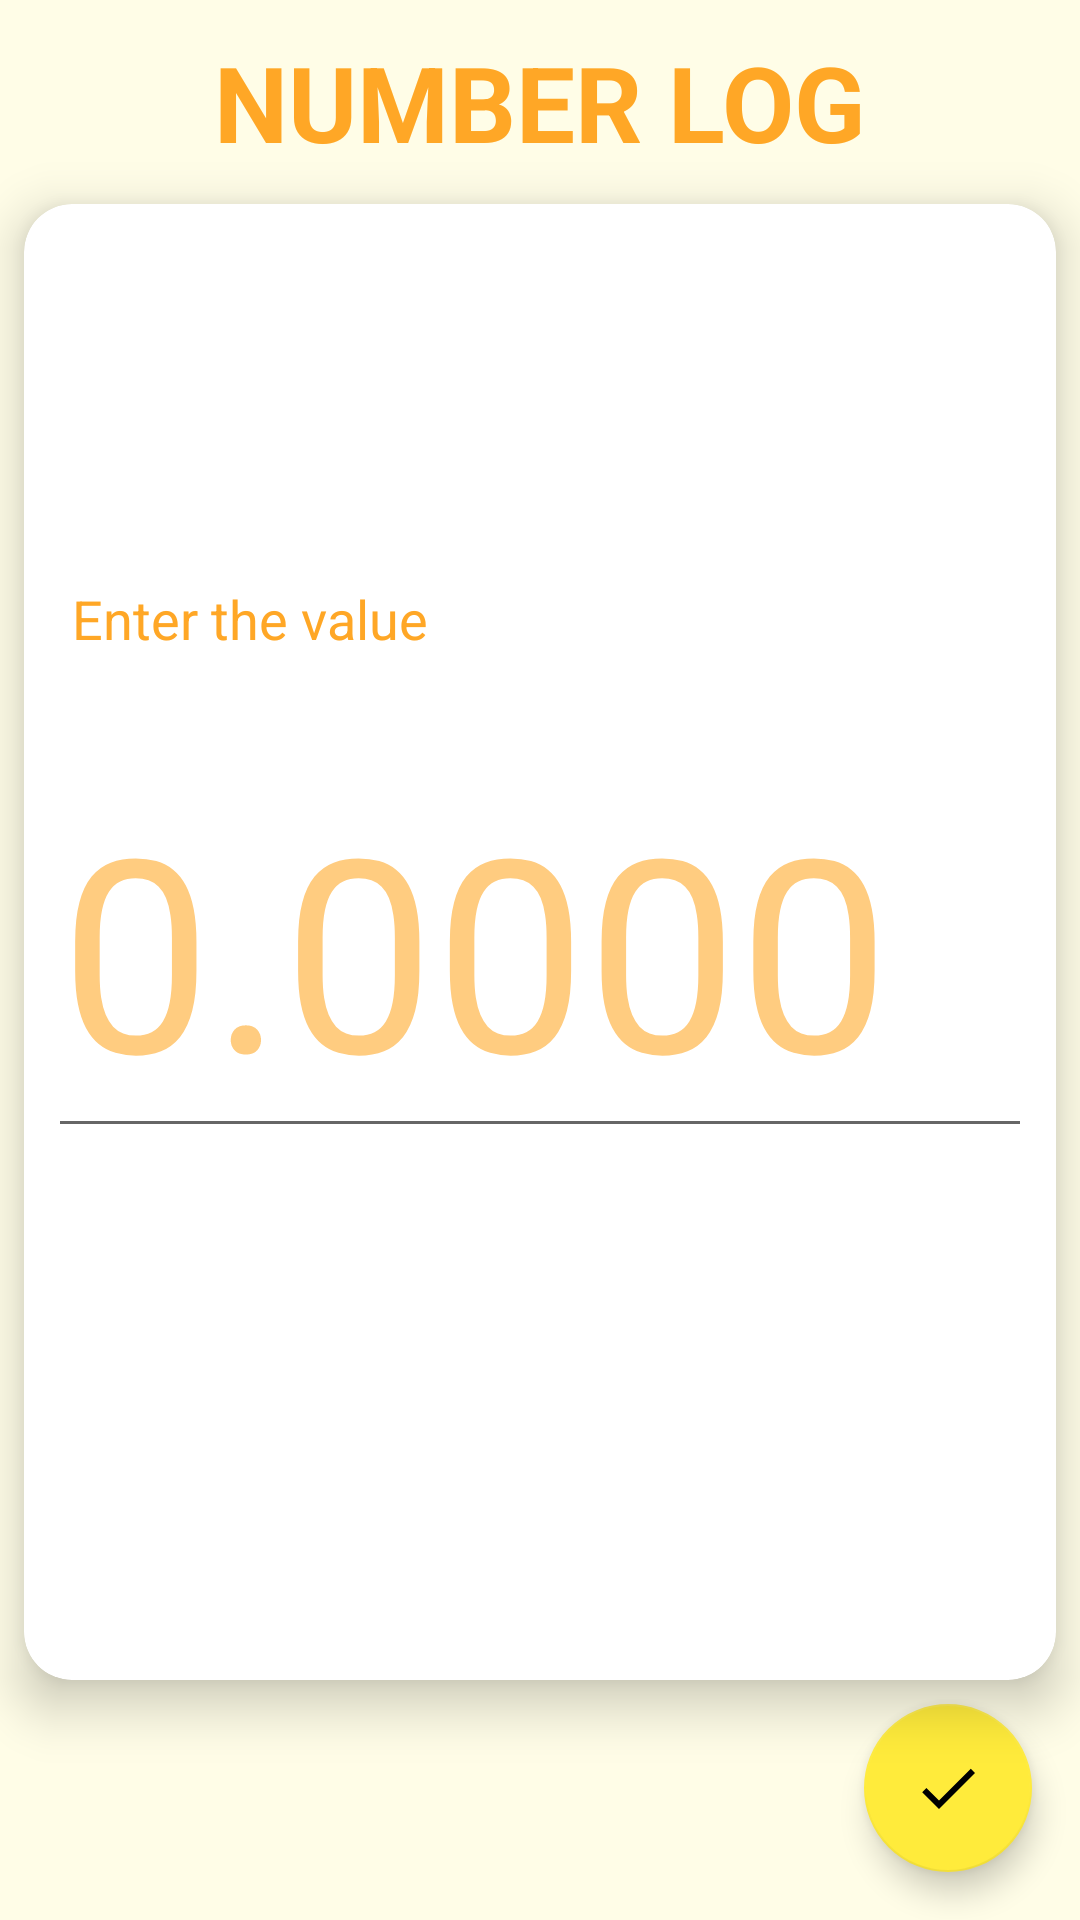

Where to tap for icons on this 1080 x 1920 app screen, as (x=x, y=y):
done: (x=948, y=1788)
